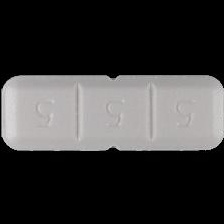51655-015: (0, 0, 224, 224)
